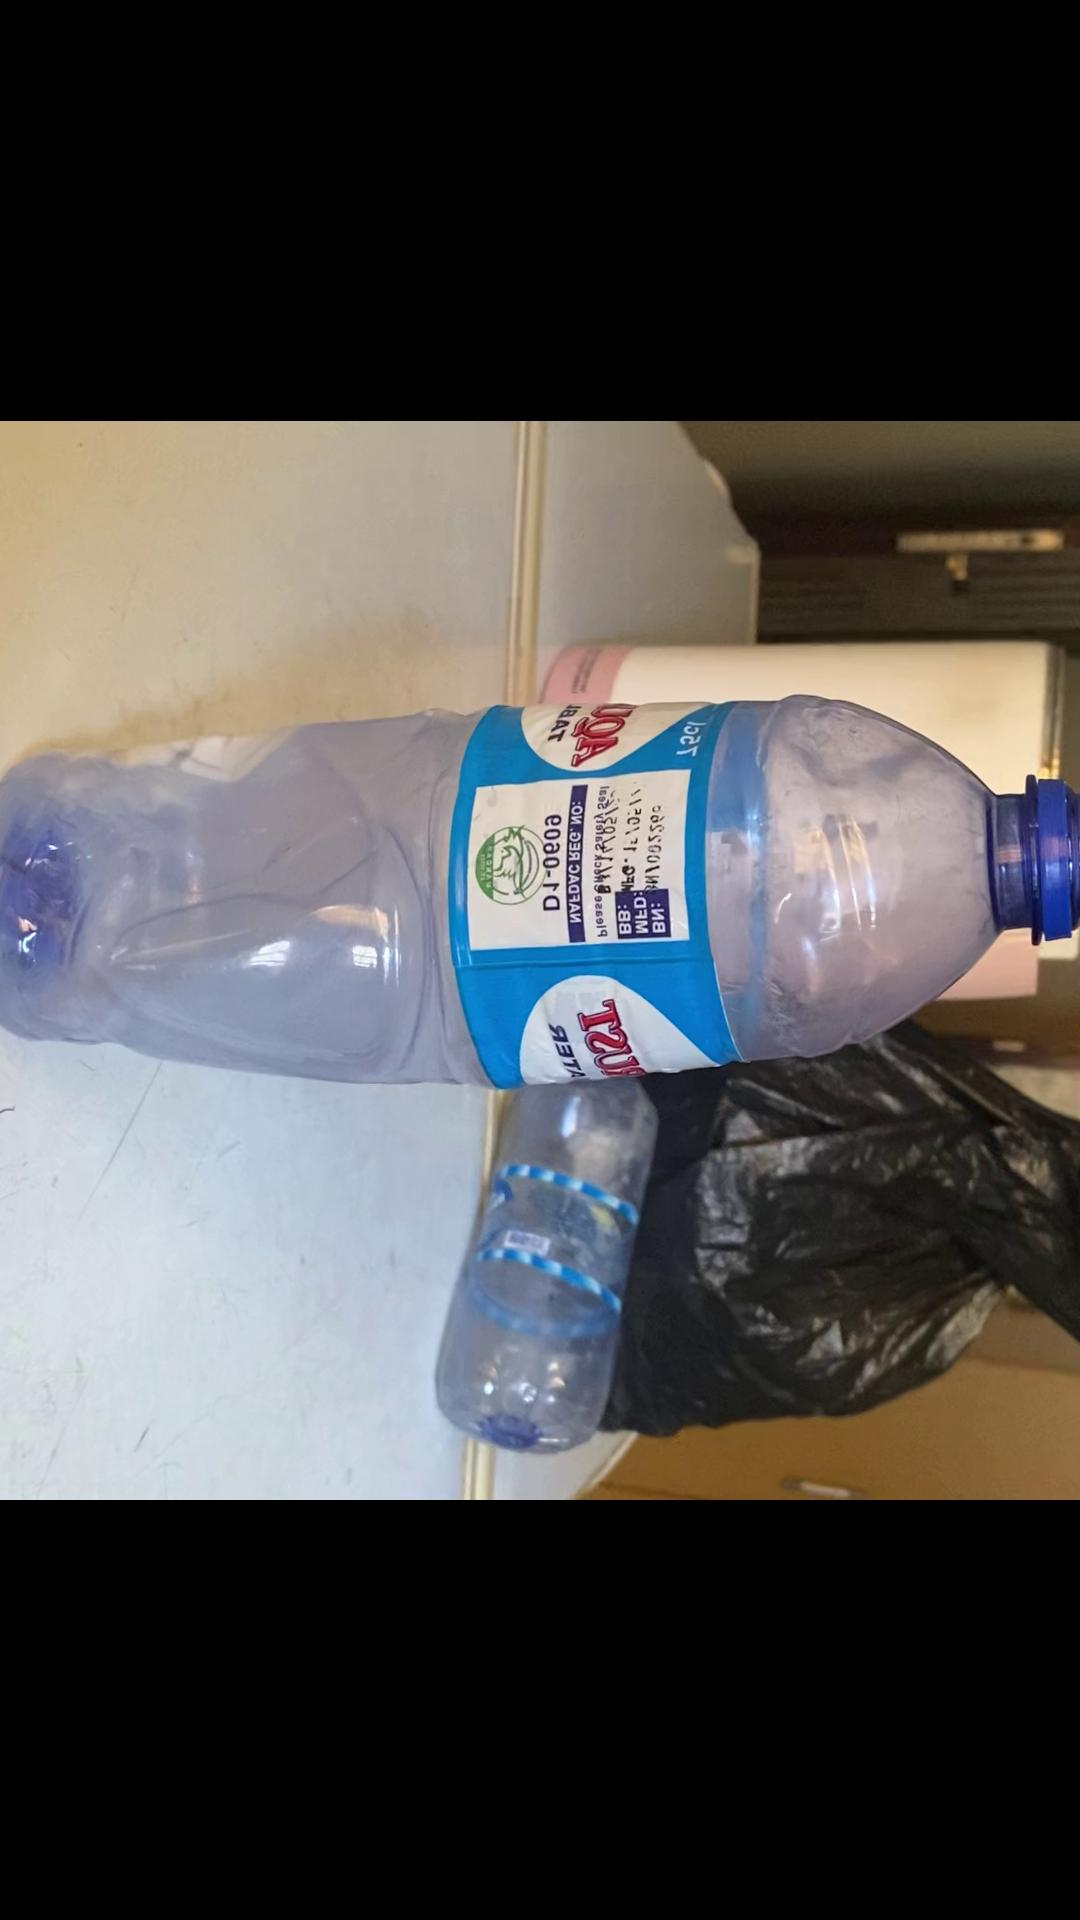crumbled: (0, 675, 1080, 1089)
label: (469, 692, 713, 1096)
no-cap: (1036, 764, 1080, 956)
